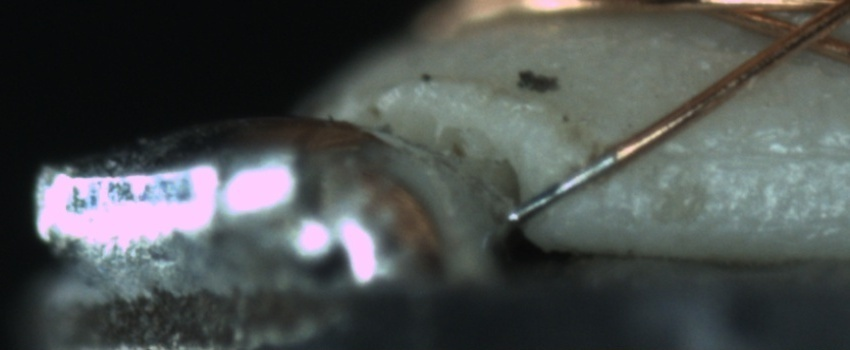CL: (758, 5, 842, 61)
DL: (667, 123, 849, 183)
TS: (508, 149, 619, 222)
